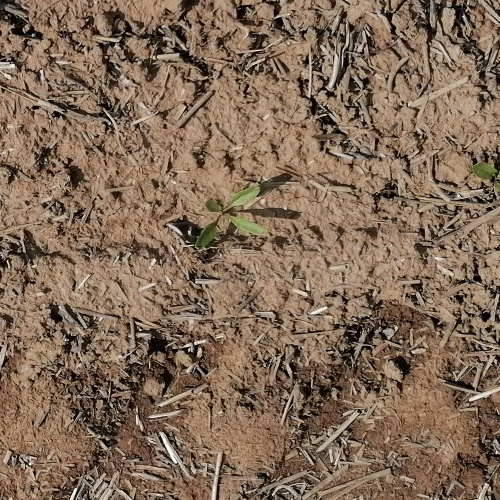beet: (197, 184, 269, 251), (474, 161, 500, 189)
